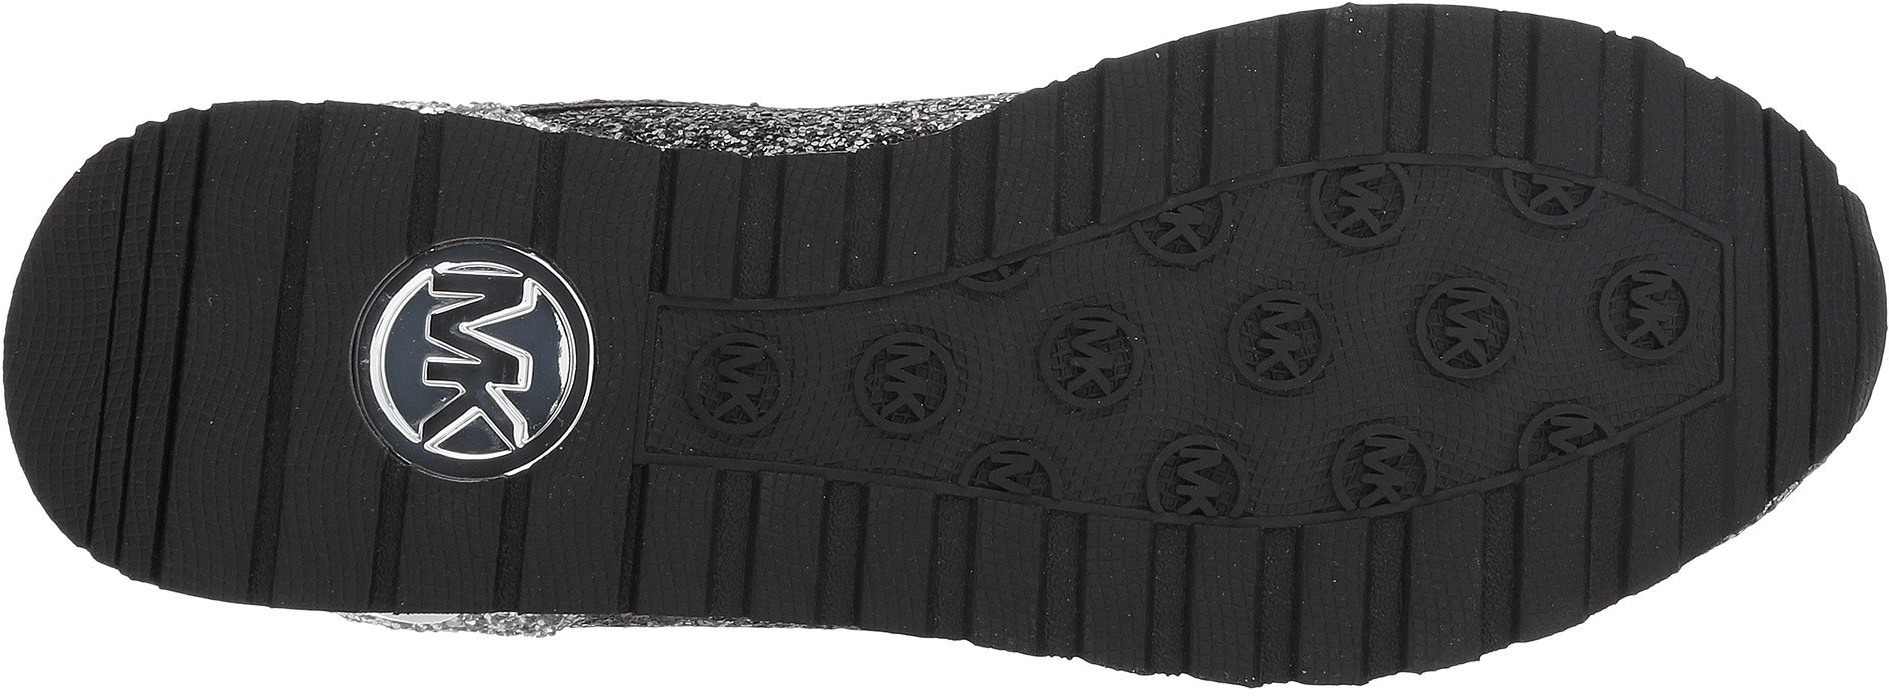circle: (348, 197, 620, 480), (1224, 276, 1353, 409), (852, 314, 969, 447), (1030, 303, 1165, 417), (1595, 242, 1705, 381), (1419, 269, 1538, 395), (675, 330, 795, 444)
line: (59, 222, 340, 512)
quad: (59, 222, 340, 512), (348, 197, 620, 480), (651, 460, 825, 635), (1228, 519, 1403, 679), (1736, 226, 1881, 396), (1175, 40, 1305, 183)
text: (348, 197, 620, 480), (417, 276, 546, 444), (1224, 276, 1353, 409), (852, 314, 969, 447), (1030, 303, 1165, 417), (1595, 242, 1705, 381), (1419, 269, 1538, 395), (675, 330, 795, 444)
